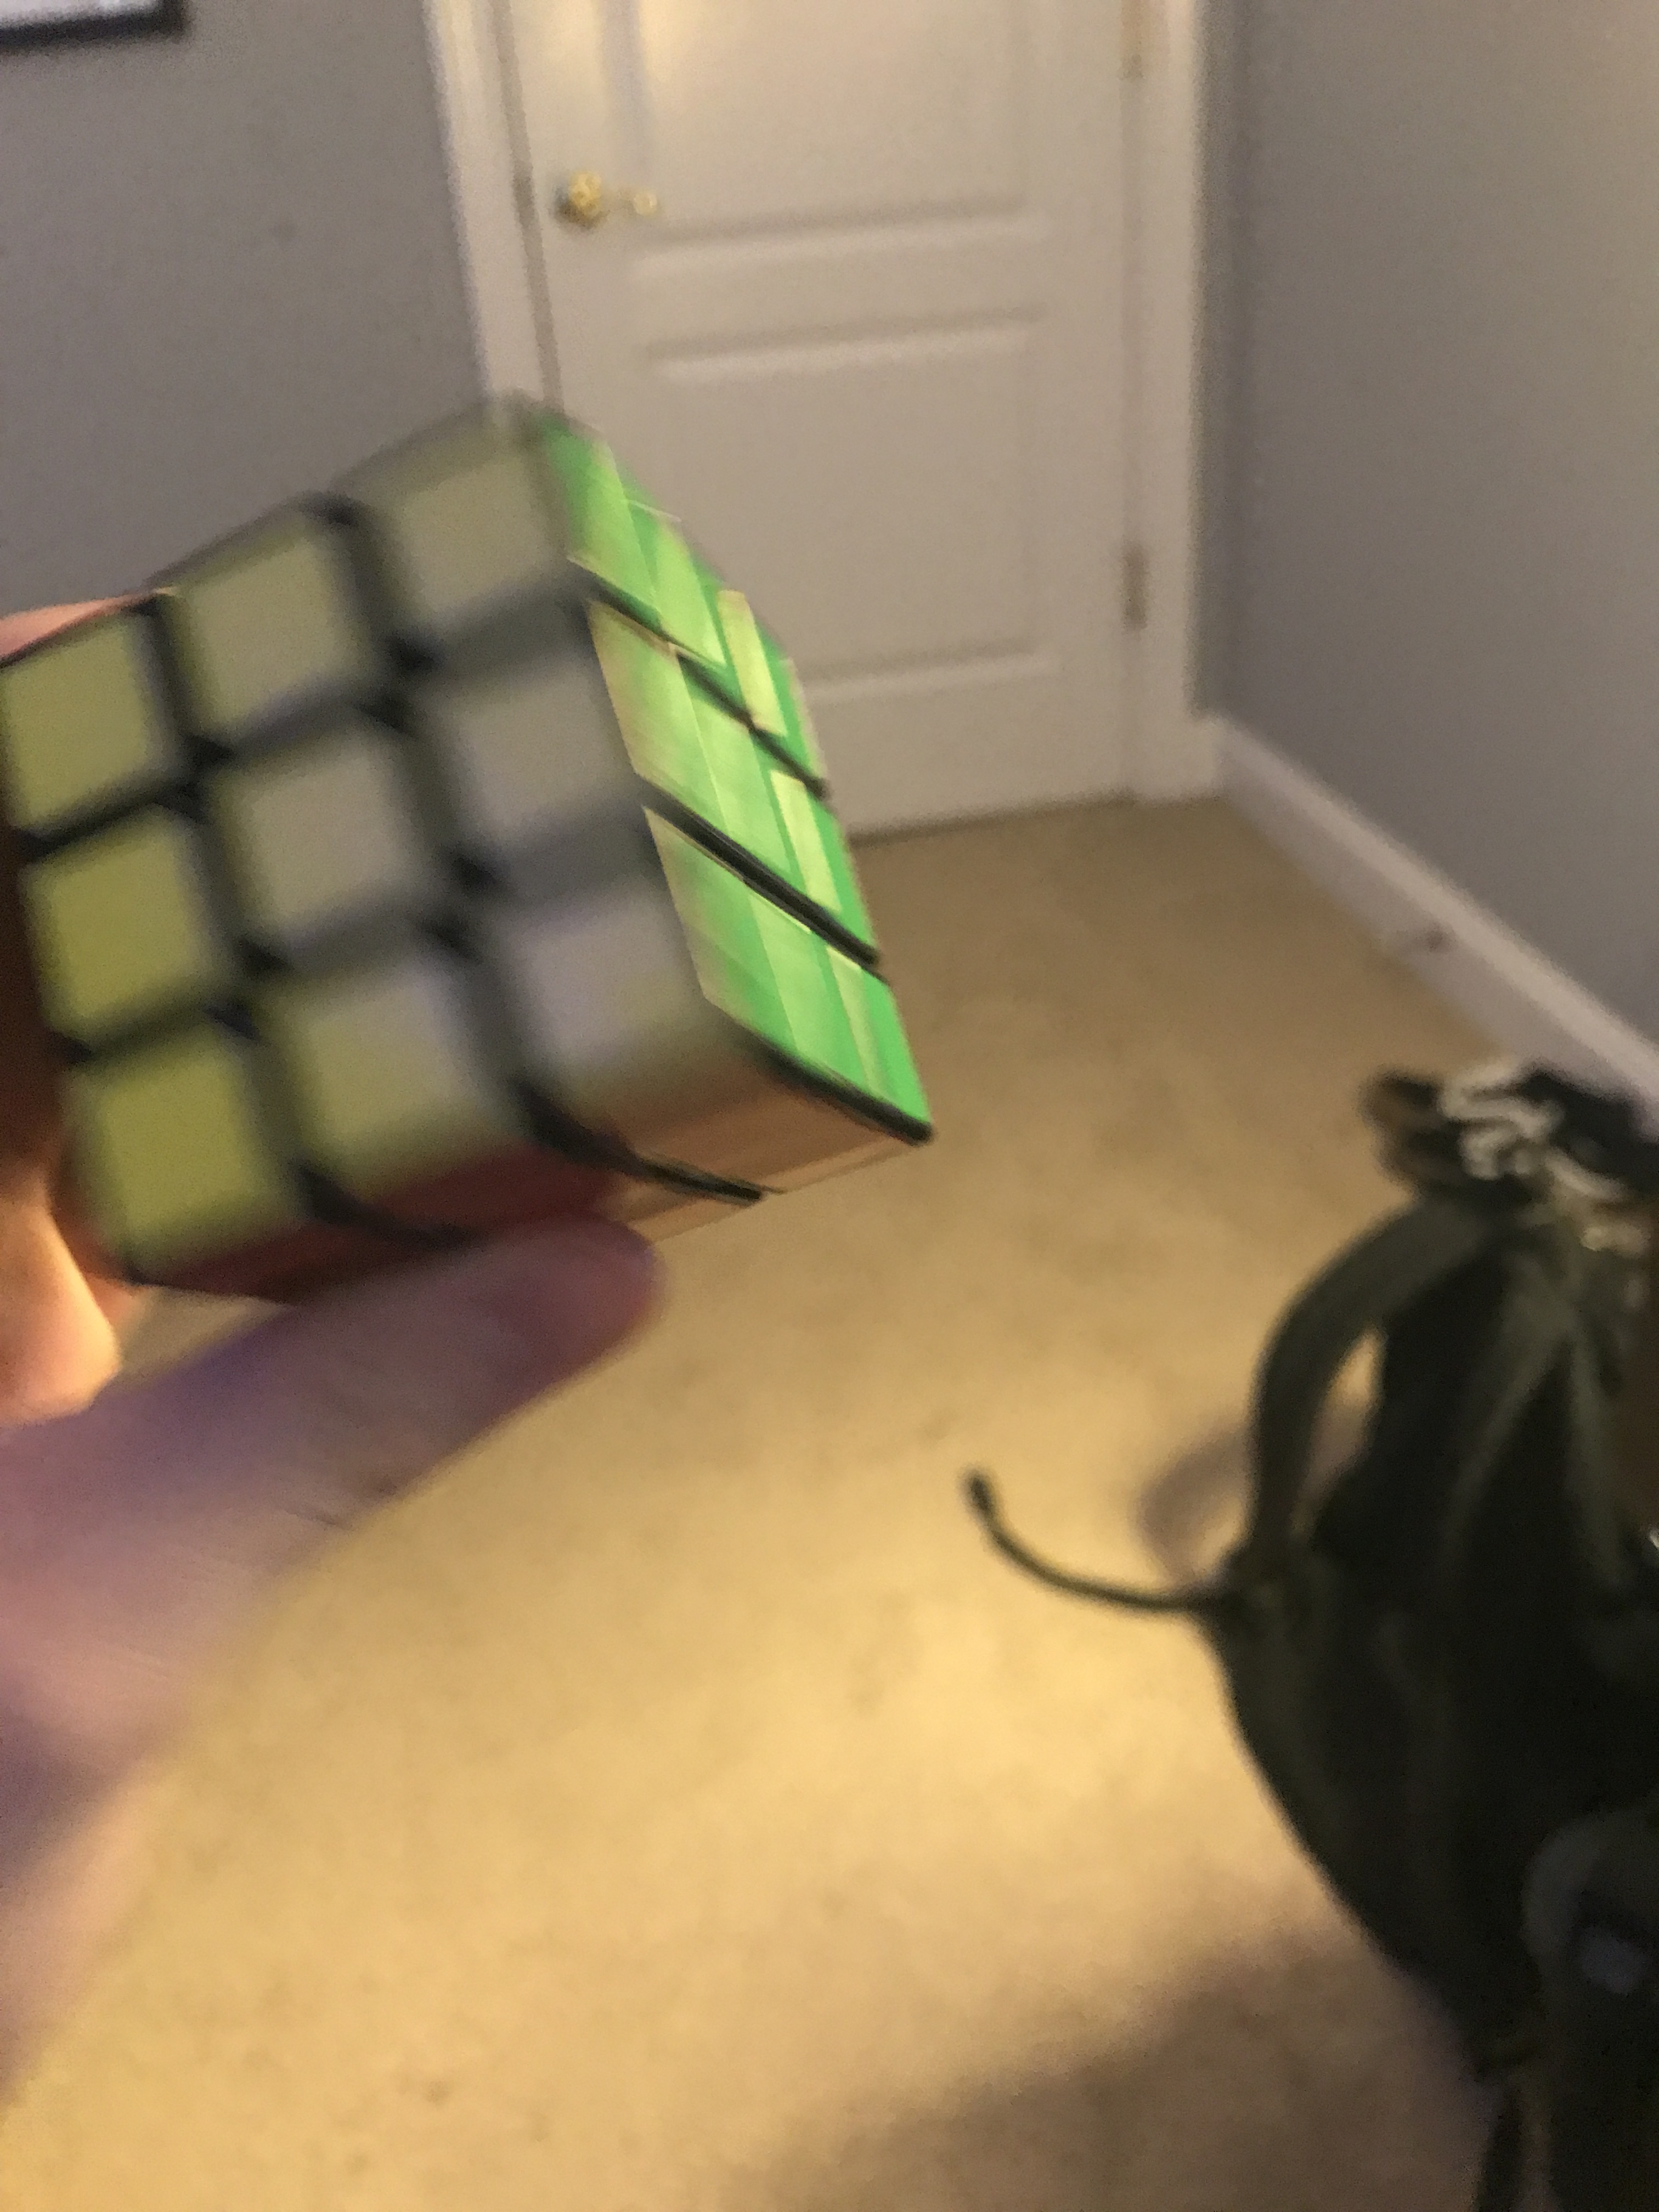rubiks: (19, 397, 939, 1315)
